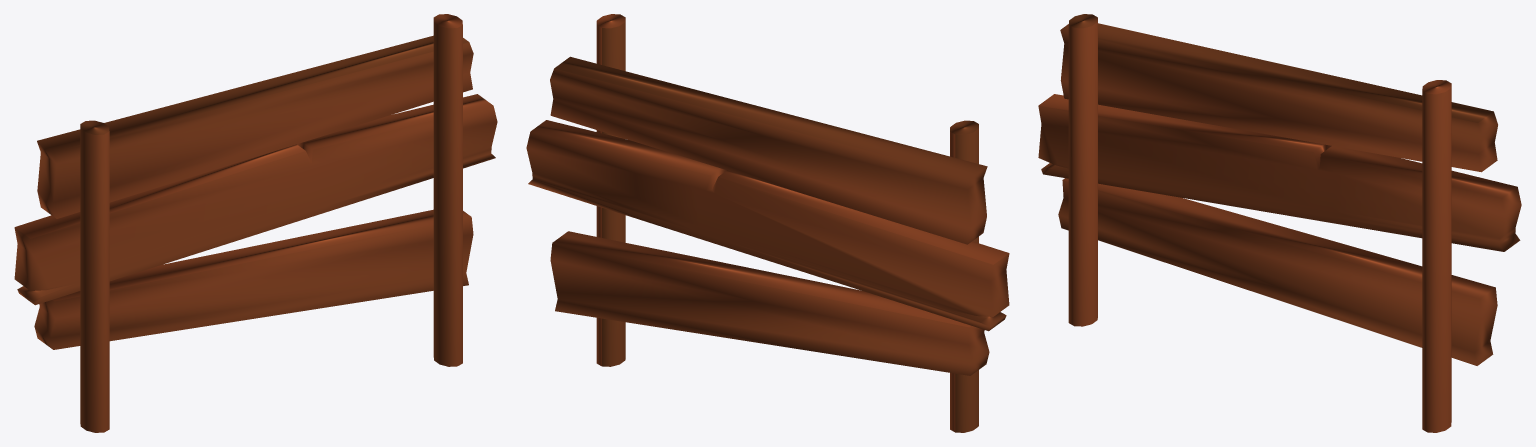
Rendered from LowPolyFence2.fbx.
The picture shows the model from 3 angles, left to right: view 1: azimuth 30°, elevation 25°; view 2: azimuth 150°, elevation 25°; view 3: azimuth 330°, elevation 25°; orthographic projection.
Parts seen in each view (by area): view 1: Cylinder.004; view 2: Cylinder.004; view 3: Cylinder.004.
Boxes of the visible parts, x1,y1,x2,y2 form: Cylinder.004: [14, 14, 497, 432]; Cylinder.004: [526, 14, 1009, 432]; Cylinder.004: [1038, 14, 1521, 432].
Size of the model in its own units: 10103 by 6996 by 1320.
